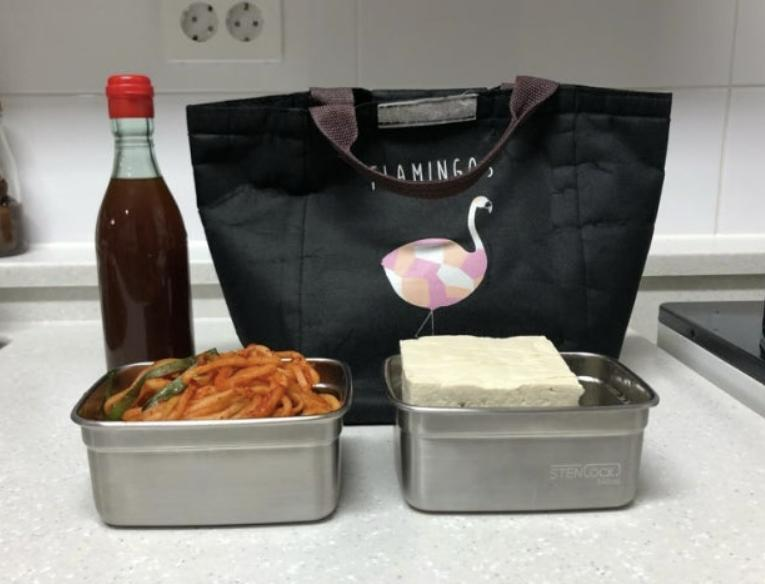Lunch Box: (71, 345, 352, 526), (384, 335, 657, 511), (95, 74, 194, 368)
